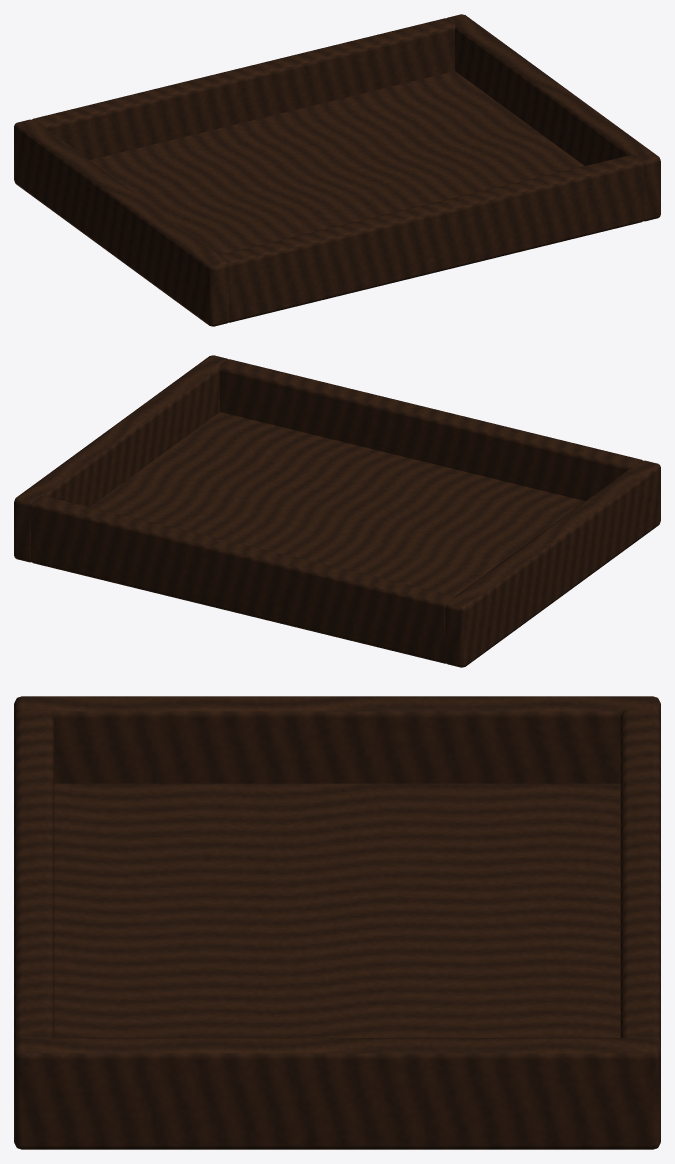
The model's file is candle_tray.glb.
3 views of the same model, one above another, from view 1: azimuth 30°, elevation 25°; view 2: azimuth 150°, elevation 25°; view 3: azimuth 270°, elevation 25° (orthographic). The views are drawn at different scales.
Parts seen in each view (by area): view 1: Bottom, End, End.001, Side, Side.001; view 2: Bottom, End.001, End, Side, Side.001; view 3: Bottom, Side.001, Side, End, End.001.
Boxes of the visible parts, x1=… form: Bottom: x1=90, y1=71, x2=584, y2=255; End: x1=219, y1=155, x2=643, y2=322; End.001: x1=32, y1=18, x2=455, y2=159; Side: x1=14, y1=119, x2=229, y2=326; Side.001: x1=446, y1=14, x2=660, y2=221; Bottom: x1=90, y1=412, x2=584, y2=596; End.001: x1=31, y1=496, x2=455, y2=663; End: x1=219, y1=359, x2=642, y2=500; Side: x1=445, y1=460, x2=660, y2=667; Side.001: x1=14, y1=355, x2=228, y2=562; Bottom: x1=54, y1=783, x2=620, y2=1037; Side.001: x1=14, y1=1038, x2=660, y2=1149; Side: x1=14, y1=696, x2=660, y2=783; End: x1=14, y1=709, x2=54, y2=1044; End.001: x1=620, y1=709, x2=660, y2=1044.
Bounding box in the file's own units: 0.42 × 0.055 × 0.32.
1 material, 1 textured.
